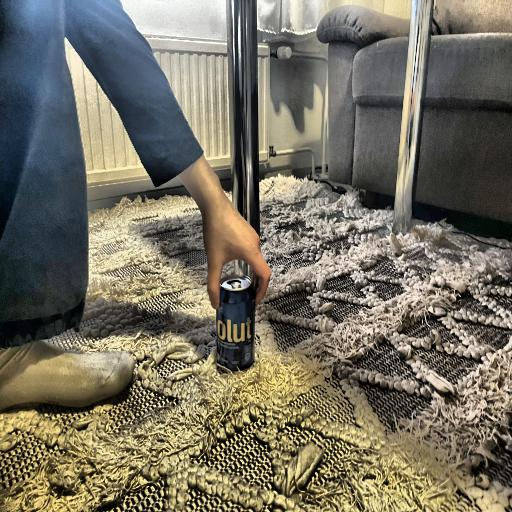koti: (210, 269, 260, 376)
